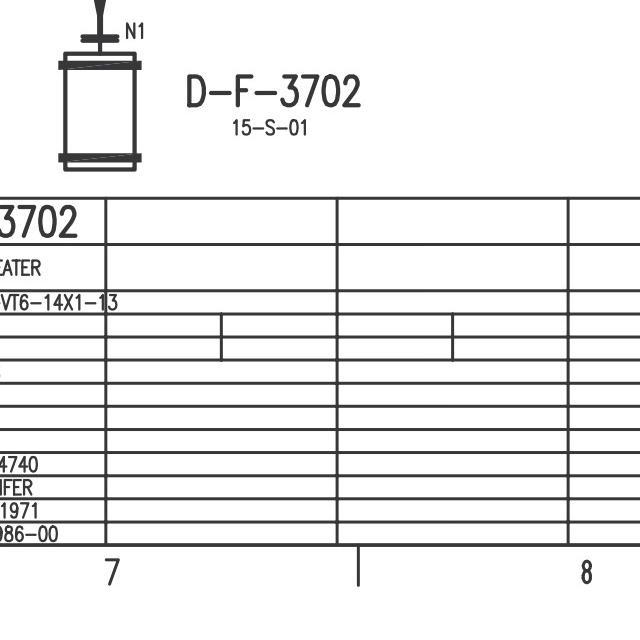D2: (53, 45, 145, 177)
